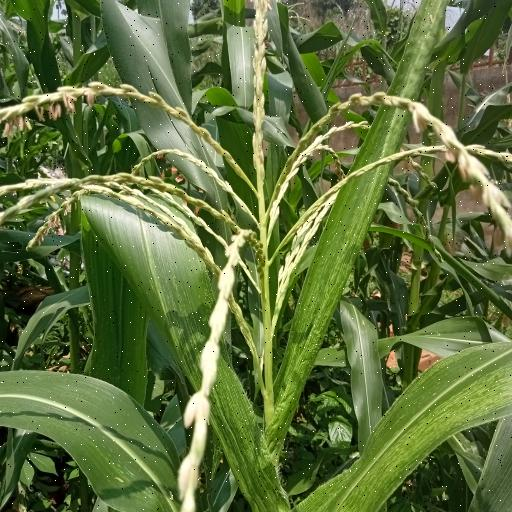Corn_Streak: (46, 188, 288, 511), (299, 336, 512, 508)
